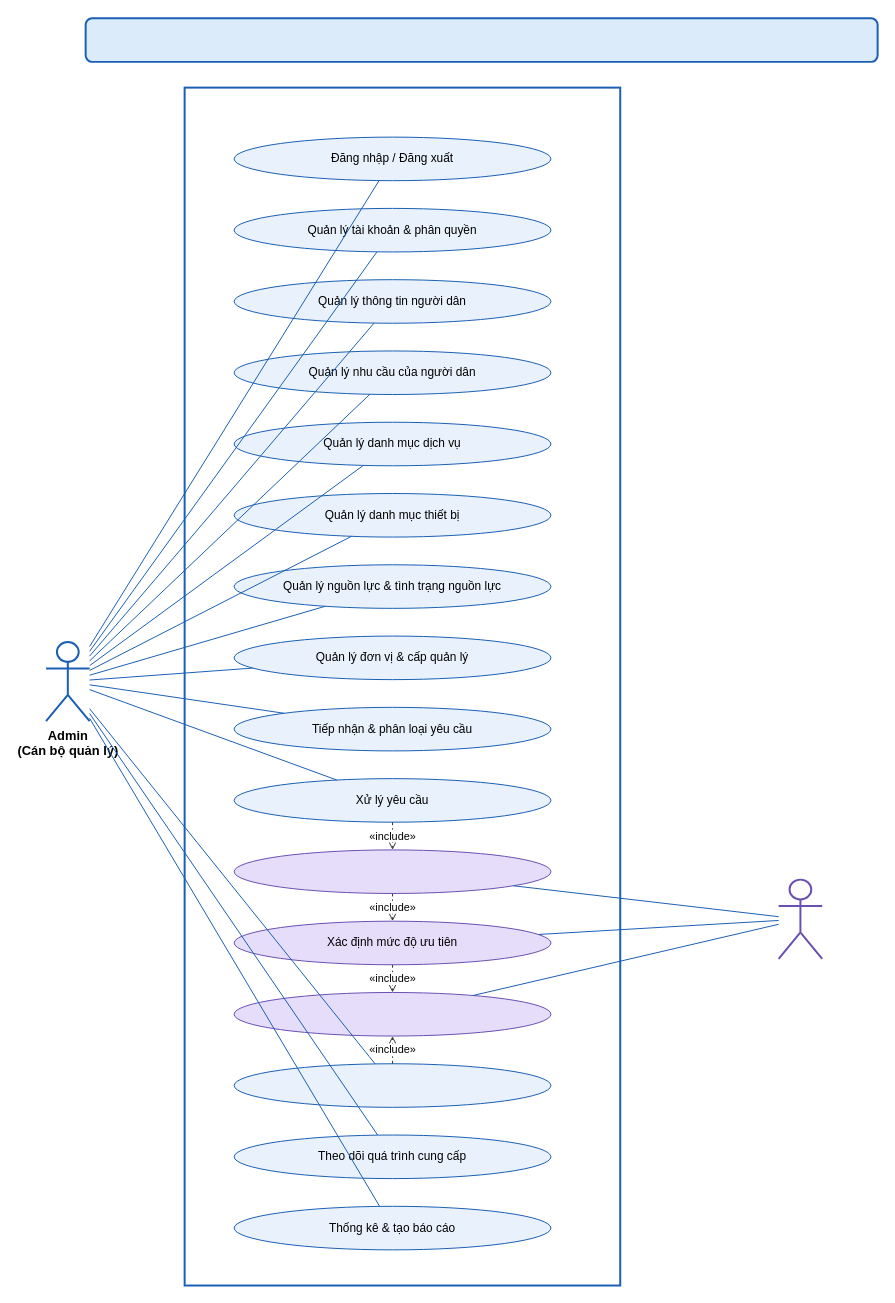
Some shapes in this 895 by 1303 pixel diagram are drawn without their labels. Each missing label, with the box of its shape:
Biểu đồ Use case – Phân hệ Admin (Cán bộ quản lý / điều phối): (84, 17, 878, 62)
Hệ thống điều phối nguồn lực an sinh xã hội – Admin: (183, 86, 621, 1286)
Phân tích yêu cầu bằng AI: (233, 849, 551, 893)
Phê duyệt & phân bổ nguồn lực: (233, 1063, 551, 1107)
Tác nhân AI (Multi-Agent): (777, 878, 823, 959)
Đề xuất phương án phân bổ: (233, 991, 551, 1036)
